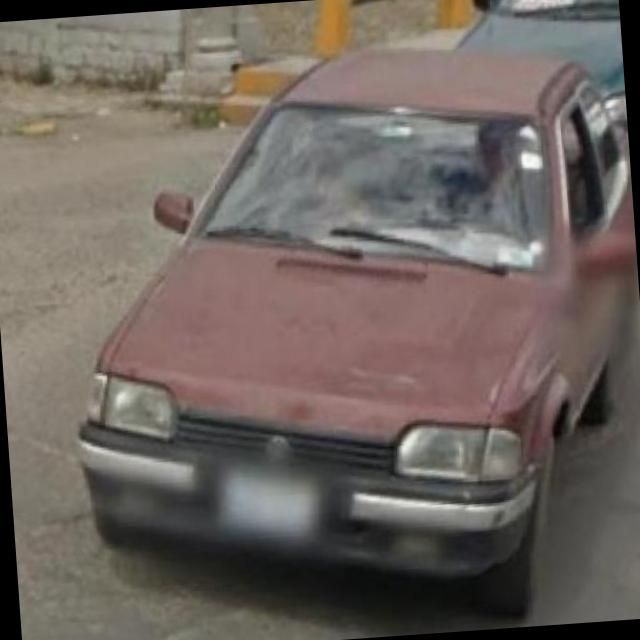car: (61, 42, 640, 640)
